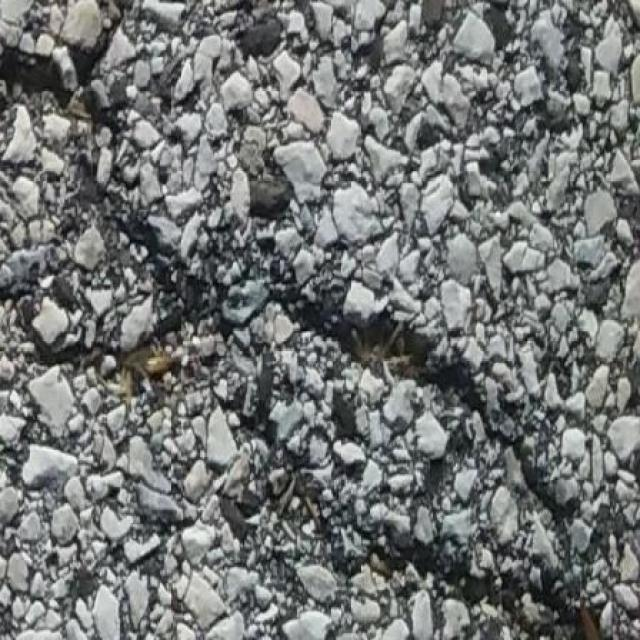Crack: (304, 305, 609, 640), (0, 224, 214, 383), (0, 56, 74, 107)
